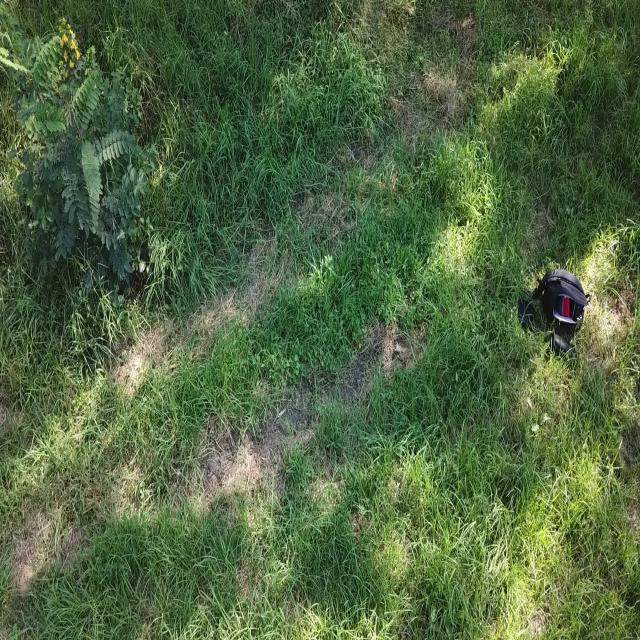Mysore-Thorn-Weed: (0, 22, 146, 292)
